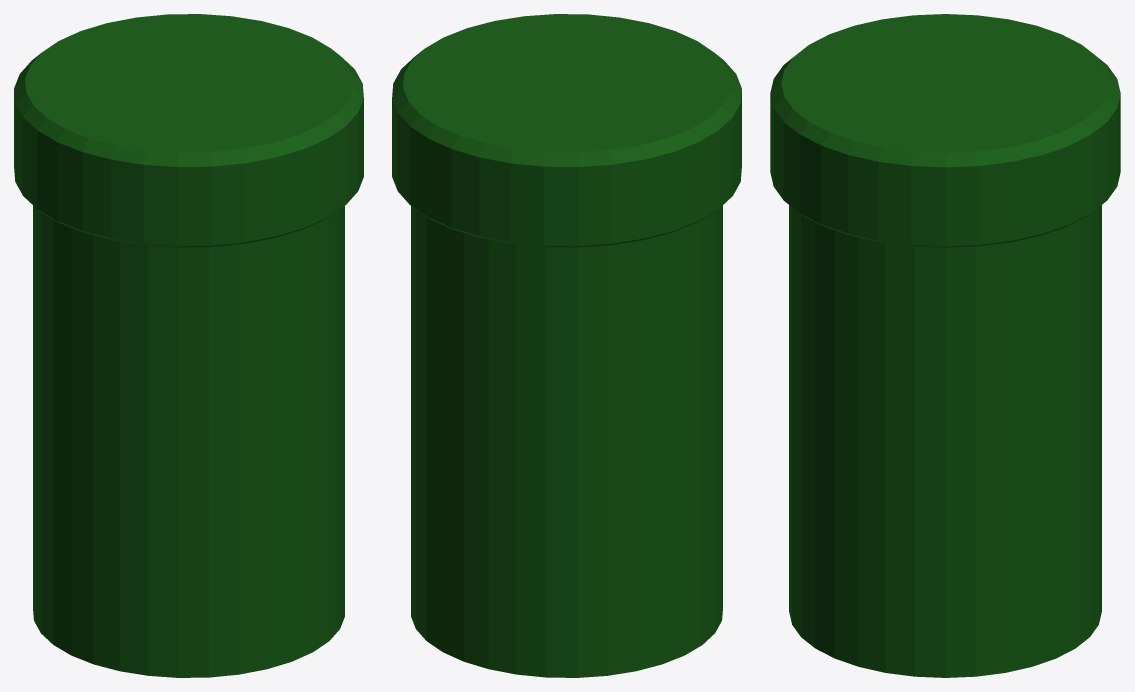
3 views of the same model, side by side, from view 1: azimuth 30°, elevation 25°; view 2: azimuth 150°, elevation 25°; view 3: azimuth 270°, elevation 25° (orthographic).
Visible parts, largest first — view 1: Cylinder; view 2: Cylinder; view 3: Cylinder.
Boxes of the visible parts, x1=… form: Cylinder: x1=14, y1=14, x2=363, y2=677; Cylinder: x1=392, y1=14, x2=741, y2=677; Cylinder: x1=770, y1=14, x2=1120, y2=677.
Bounding box in the file's own units: 2.24 × 3.73 × 2.24.
